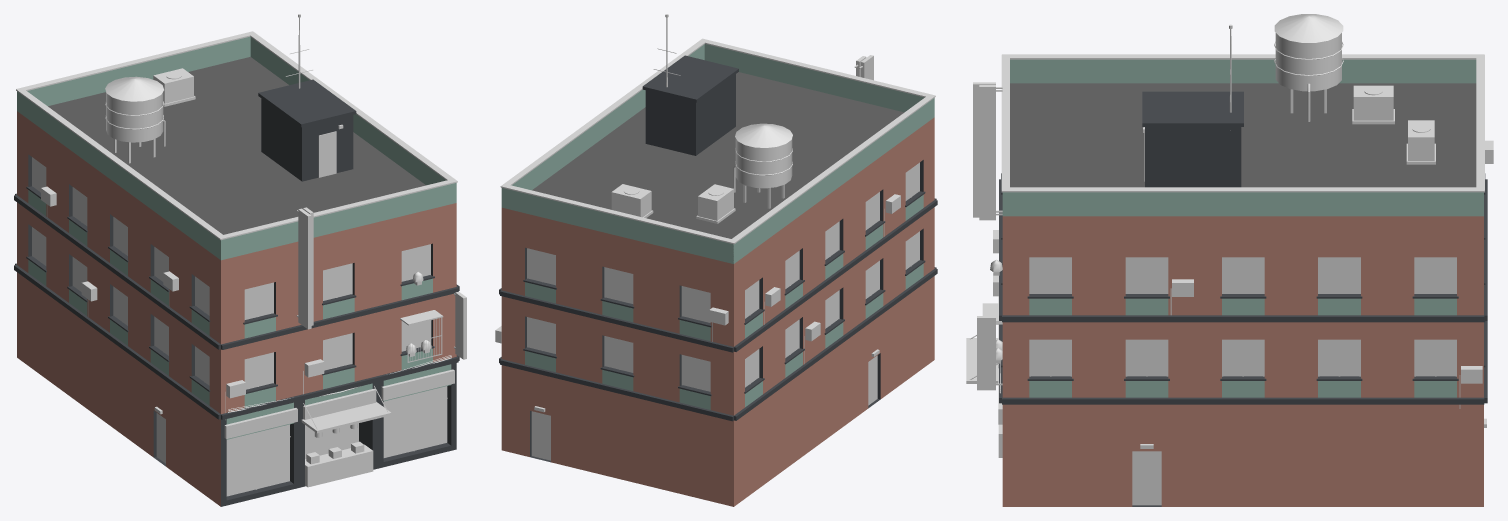
The model's file is Plaza_Block_02.fbx.
The picture shows the model from 3 angles, left to right: view 1: azimuth 30°, elevation 25°; view 2: azimuth 150°, elevation 25°; view 3: azimuth 270°, elevation 25°; orthographic projection. The views are drawn at different scales.
Parts seen in each view (by area): view 1: Plaza_Block_02_LOD0; view 2: Plaza_Block_02_LOD0; view 3: Plaza_Block_02_LOD0.
Part boxes in pixels (x1,y1,x2,y2): Plaza_Block_02_LOD0: (14, 14, 466, 506); Plaza_Block_02_LOD0: (495, 14, 937, 506); Plaza_Block_02_LOD0: (966, 14, 1493, 506).
Size of what is drawn, in the model's own units: 12.73 by 18.44 by 19.72.
